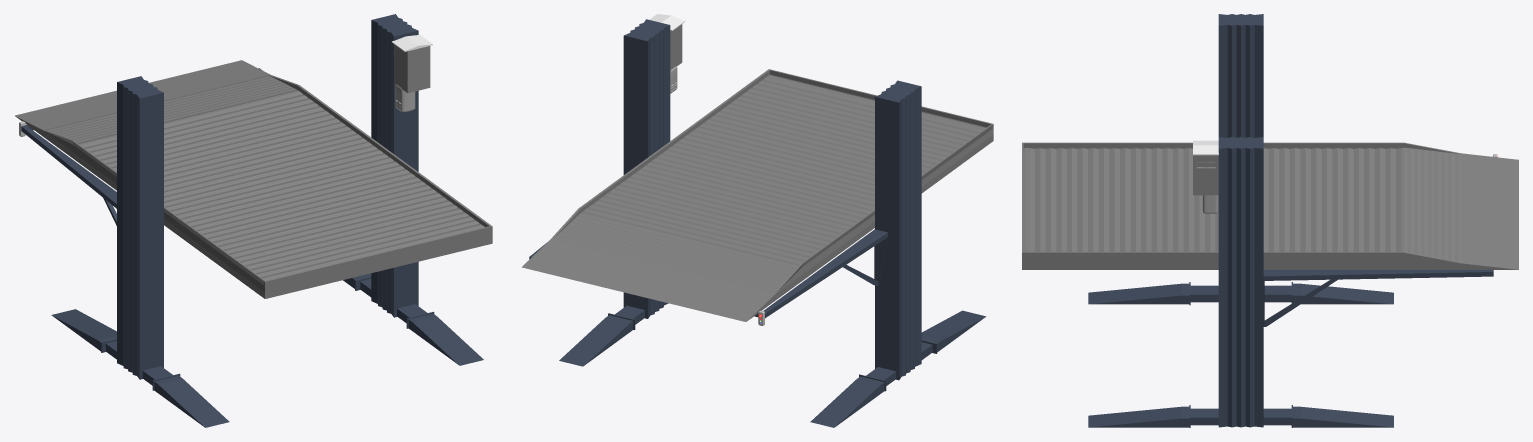
The model's file is low-poly_parking_lift.glb.
3 views of the same model, side by side, from view 1: azimuth 30°, elevation 25°; view 2: azimuth 150°, elevation 25°; view 3: azimuth 270°, elevation 25° (orthographic).
Parts seen in each view (by area): view 1: Cube.001, Cube.003, Cube, Cube.005, Cube.002, Cube.006, Cube.009, Cube.007, Cube.008; view 2: Cube.001, Cube.003, Cube, Cube.002, Cube.005, Cube.009, Cube.006; view 3: Cube.001, Cube.003, Cube, Cube.005, Cube.002, Cube.009, Cube.006.
Boxes of the visible parts, x1,y1,x2,y2 form: Cube.001: [79, 90, 484, 280]; Cube.003: [117, 14, 418, 379]; Cube: [15, 60, 492, 298]; Cube.005: [51, 273, 483, 427]; Cube.002: [46, 75, 296, 143]; Cube.006: [394, 45, 430, 93]; Cube.009: [21, 68, 262, 225]; Cube.007: [391, 34, 432, 51]; Cube.008: [395, 84, 415, 112]; Cube.001: [581, 75, 985, 266]; Cube.003: [623, 19, 921, 380]; Cube: [521, 69, 993, 321]; Cube.002: [552, 213, 798, 294]; Cube.005: [559, 305, 986, 427]; Cube.009: [529, 229, 887, 318]; Cube.006: [670, 24, 682, 70]; Cube.001: [1024, 148, 1404, 251]; Cube.003: [1218, 14, 1263, 427]; Cube: [1022, 142, 1518, 269]; Cube.005: [1088, 282, 1393, 427]; Cube.002: [1404, 147, 1461, 262]; Cube.009: [1263, 269, 1493, 326]; Cube.006: [1193, 155, 1218, 195].
Size of the model in its own units: 13.83 by 13.19 by 21.31.
